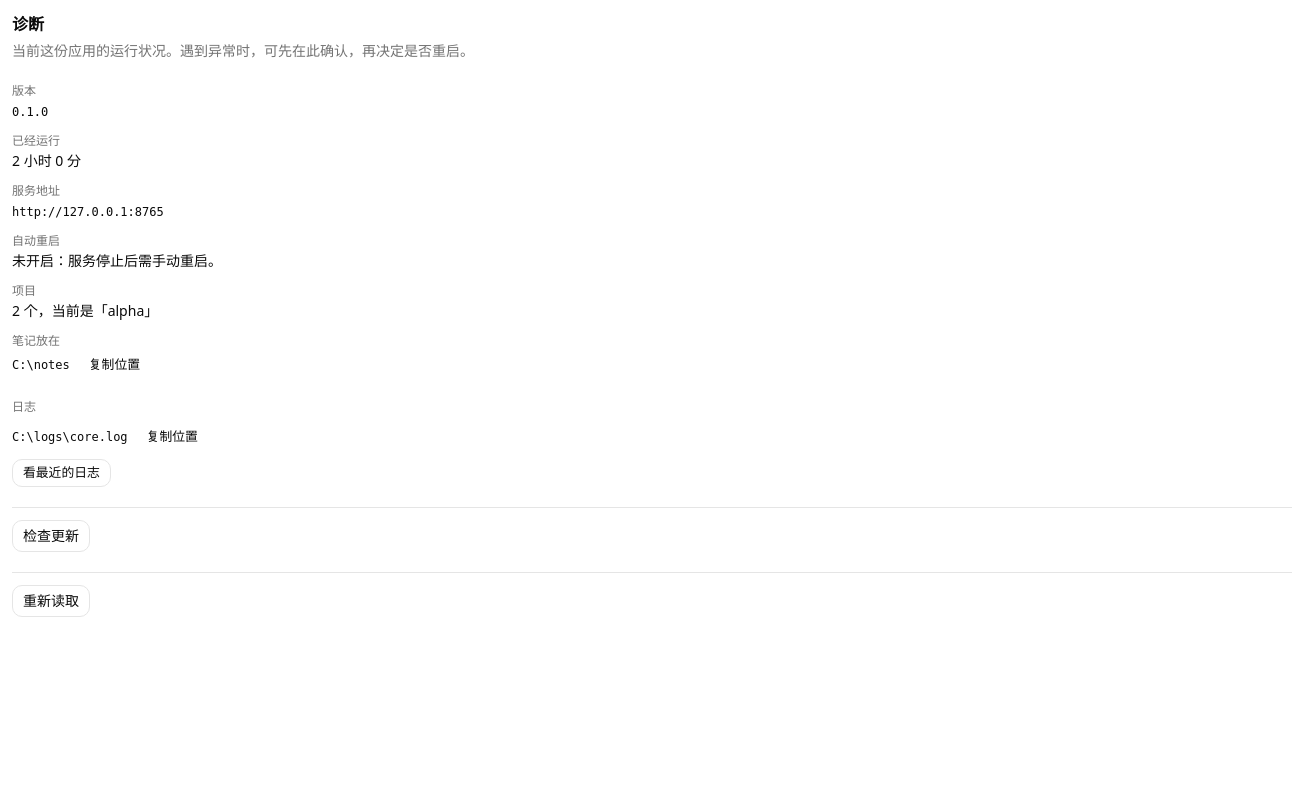
Test: what this copy of the app says about itself › keeps the reading still when the log was empty
The width and height of the screenshot is (1292, 812).
What coordinates should you click on to do the following:
click the button "看最近的日志"
I would click on:
 (61, 473)
Its box is [12,459,111,487].
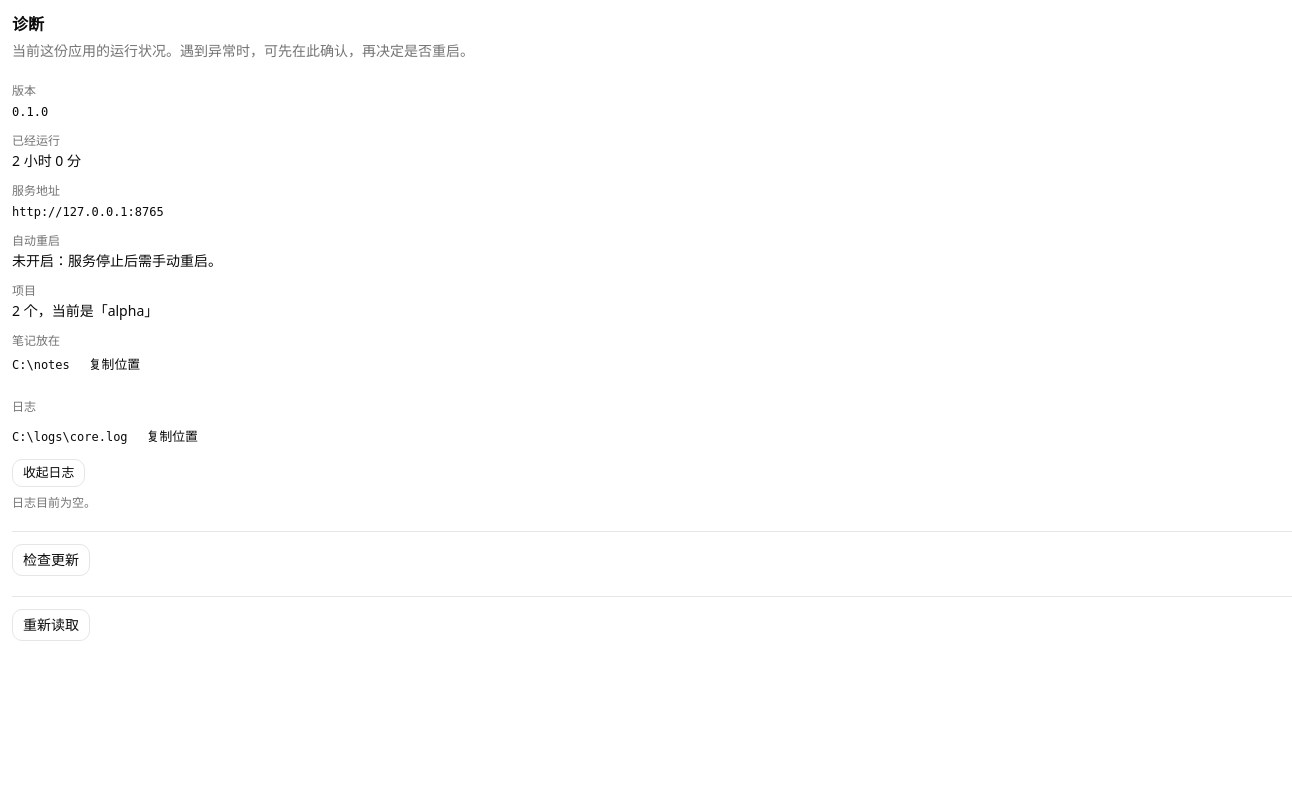
Now the text "日志目前为空。" is shown, box [12,494,96,511]
